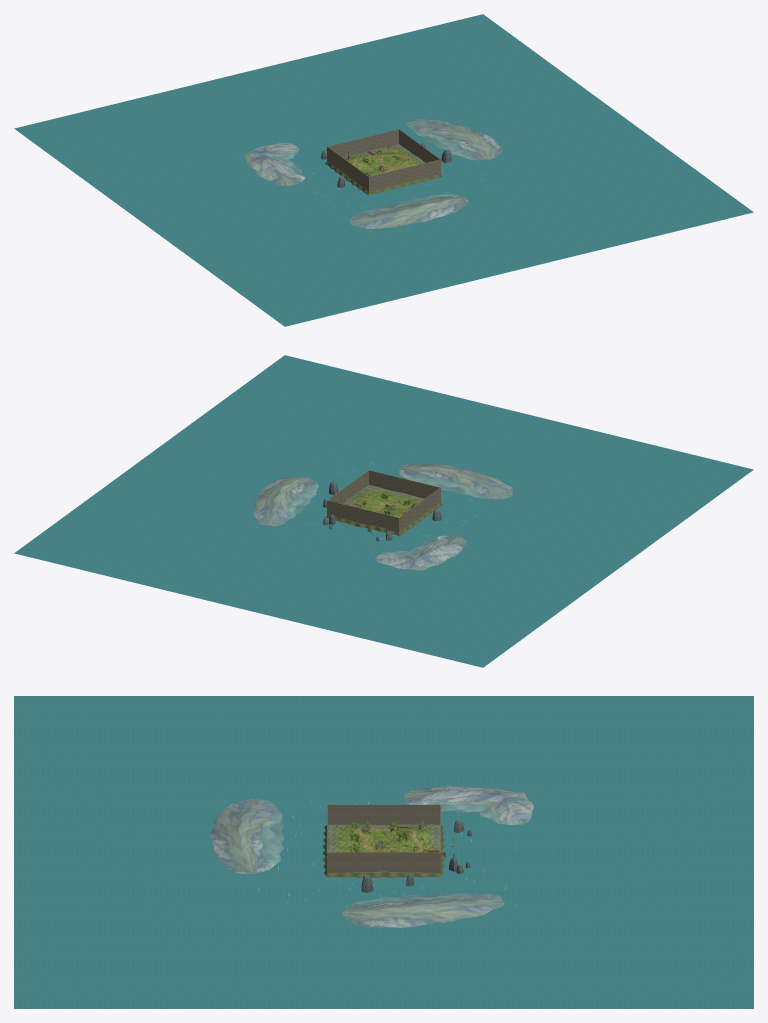
Rendered from Wrenfall.fbx.
3 views of the same model, one above another, from view 1: azimuth 30°, elevation 25°; view 2: azimuth 150°, elevation 25°; view 3: azimuth 270°, elevation 25° (orthographic). The views are drawn at different scales.
Parts seen in each view (by area): view 1: Surroundings, Horizon, C_Solids, Terrain; view 2: Surroundings, Horizon, C_Solids, Terrain; view 3: Surroundings, Horizon, C_Solids, Terrain, Rim, Set.
Boxes of the visible parts, box(x1,y1,x2,y2) form: Surroundings: box(14, 14, 753, 326); Horizon: box(216, 99, 551, 241); C_Solids: box(327, 129, 440, 191); Terrain: box(342, 144, 424, 176); Surroundings: box(14, 355, 753, 667); Horizon: box(216, 440, 551, 582); C_Solids: box(327, 470, 440, 532); Terrain: box(343, 485, 424, 517); Surroundings: box(14, 696, 753, 1008); Horizon: box(215, 781, 552, 923); C_Solids: box(327, 804, 440, 873); Terrain: box(328, 824, 439, 852); Rim: box(323, 825, 444, 877); Set: box(336, 820, 438, 852).
Size of the model in its own units: 79200 by 3157 by 79200.
